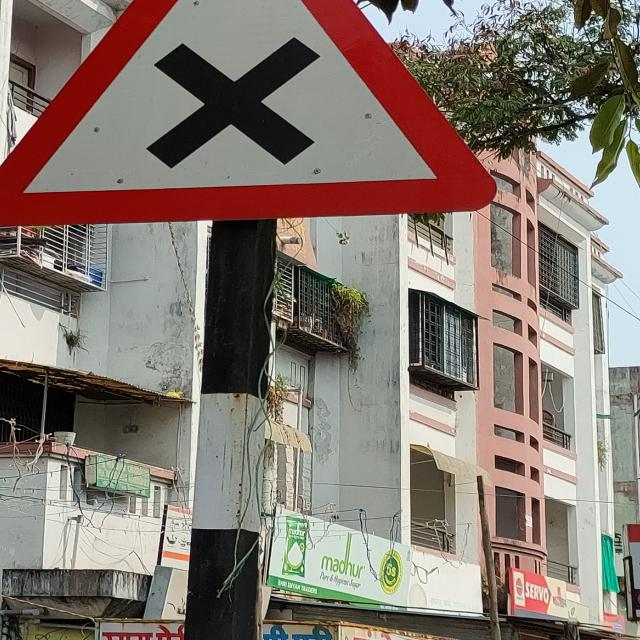CROSS_ROAD: (0, 0, 506, 230)
